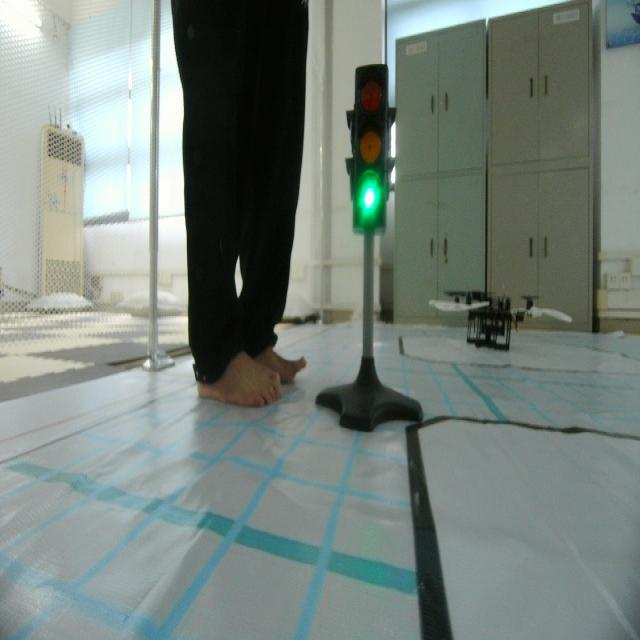green: (350, 59, 392, 232)
